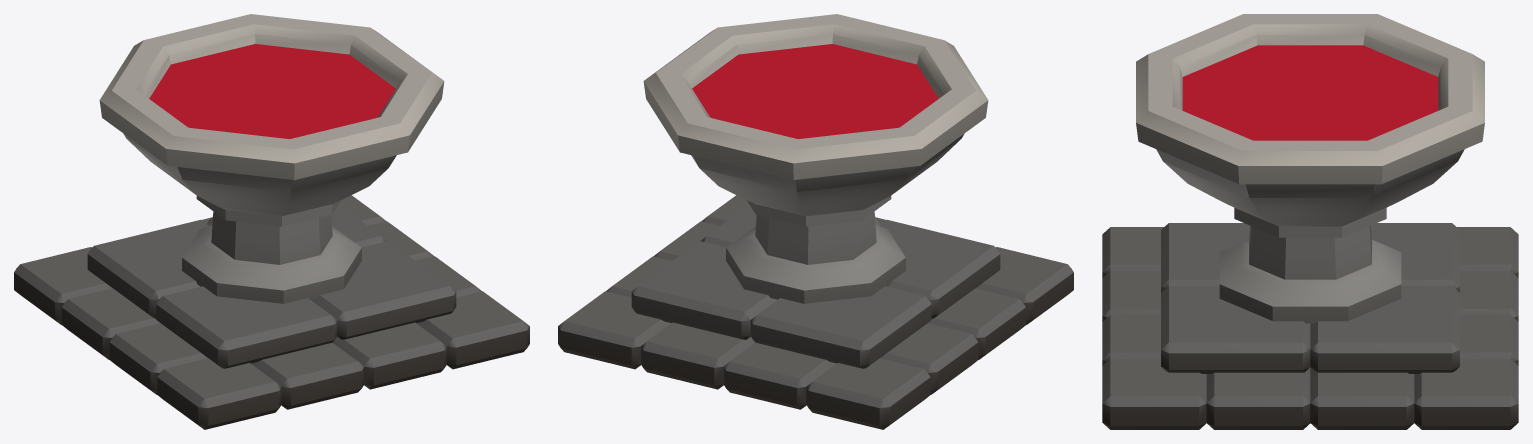
Rendered from fountain_font_health.glb.
The picture shows the model from 3 angles, left to right: view 1: azimuth 30°, elevation 25°; view 2: azimuth 150°, elevation 25°; view 3: azimuth 270°, elevation 25°; orthographic projection. The views are drawn at different scales.
Visible parts, largest first — view 1: Item, Liquid; view 2: Item, Liquid; view 3: Item, Liquid.
Part boxes in pixels (left/top/right/bottom): Item: left=14, top=14, right=529, bottom=429; Liquid: left=149, top=44, right=395, bottom=138; Item: left=558, top=14, right=1073, bottom=429; Liquid: left=692, top=44, right=938, bottom=138; Item: left=1102, top=14, right=1518, bottom=429; Liquid: left=1182, top=45, right=1438, bottom=140.
Size of the model in its own units: 1.56 by 1.09 by 1.56.
Materials: 2 (2 with a texture image).
